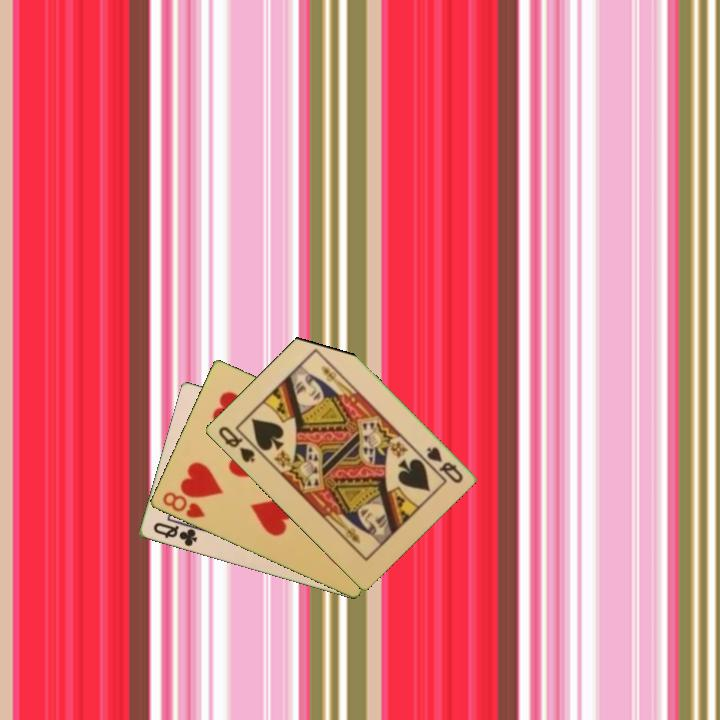8h: (159, 488, 207, 521)
Qc: (149, 519, 200, 550)
Qs: (214, 423, 258, 466), (422, 443, 466, 486)
